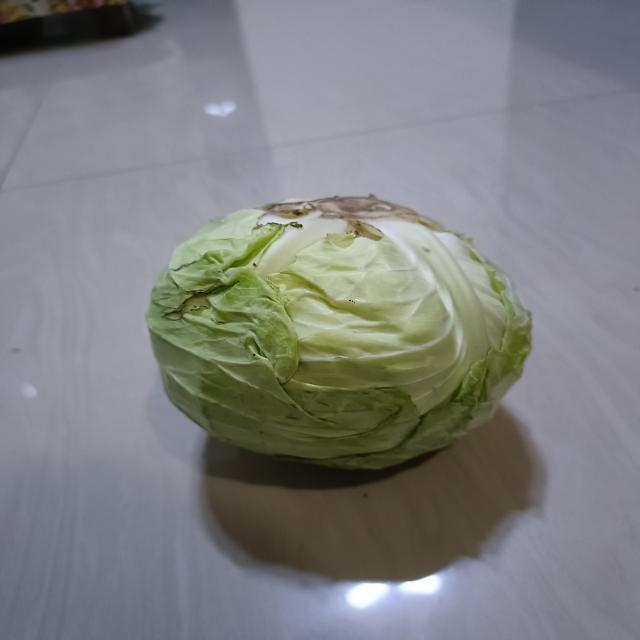cabbage: (149, 194, 534, 473)
